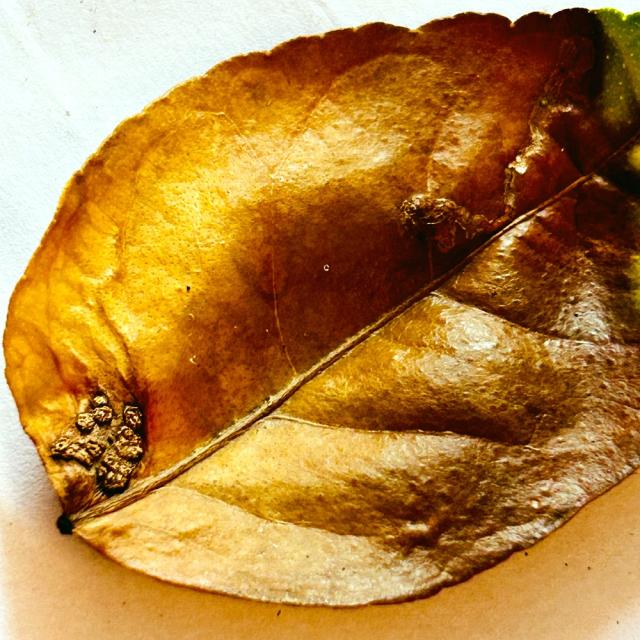DryLeaf_Lemon: (4, 10, 639, 605)
